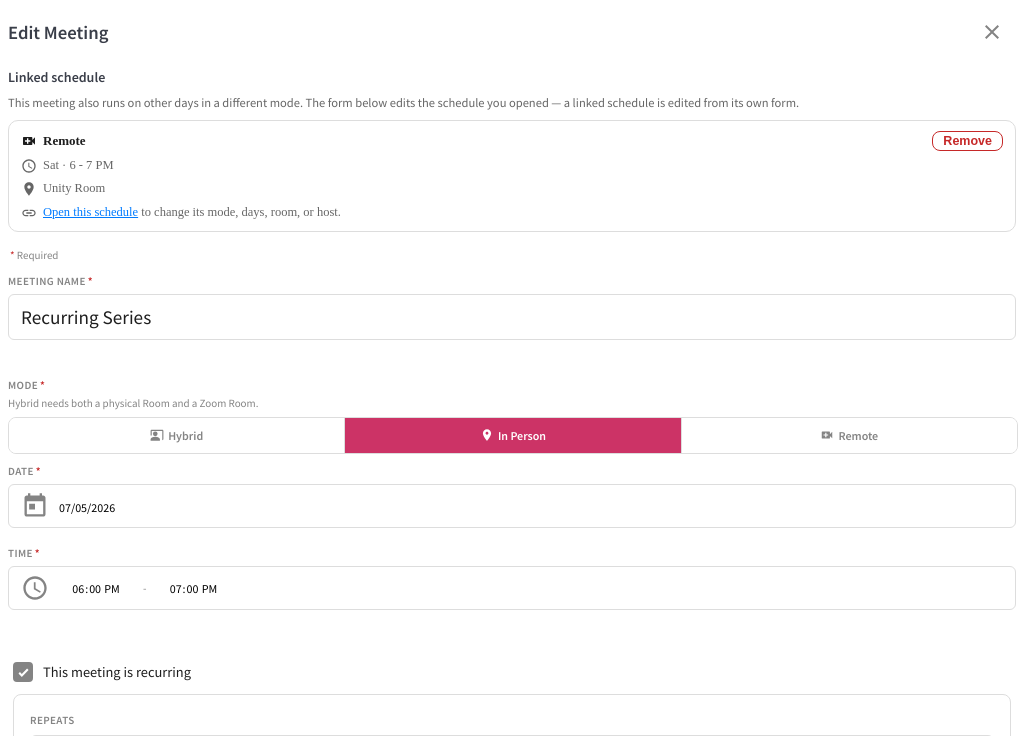
Test case: EditMeetingSidebar linked schedules › warns that the Zoom meeting goes too when the surviving schedule has none
Click the button "Remove" at point(968, 140), box x1=932 y1=130 x2=1003 y2=150
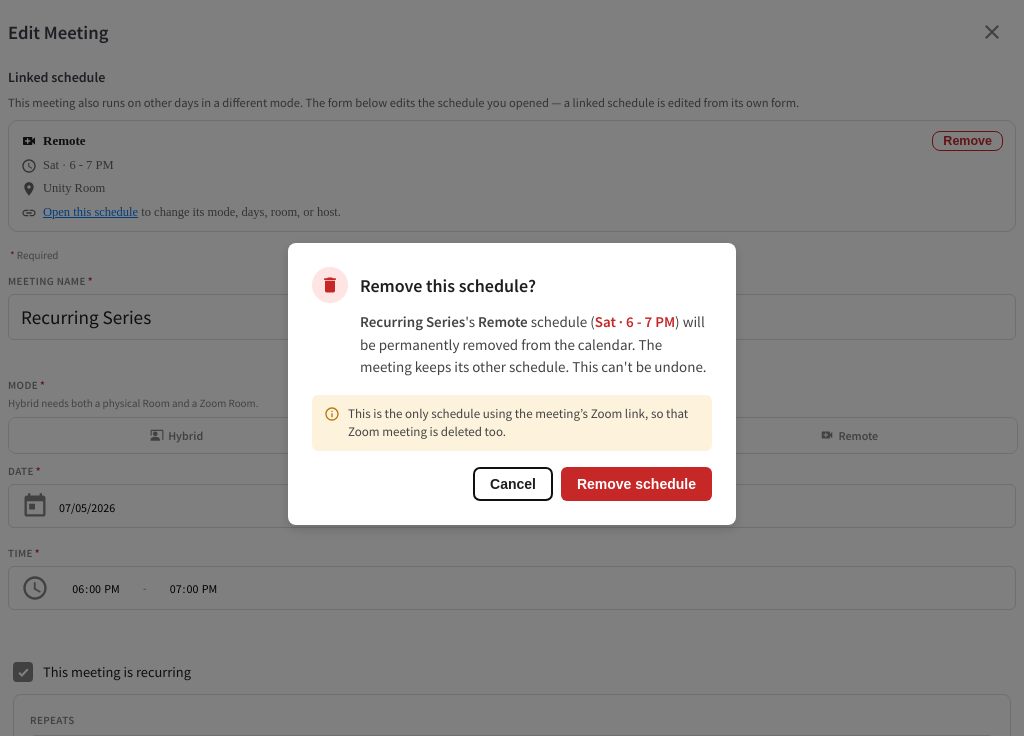
Check: the text "that Zoom meeting is deleted too" is shown, box x1=348 y1=405 x2=688 y2=440
